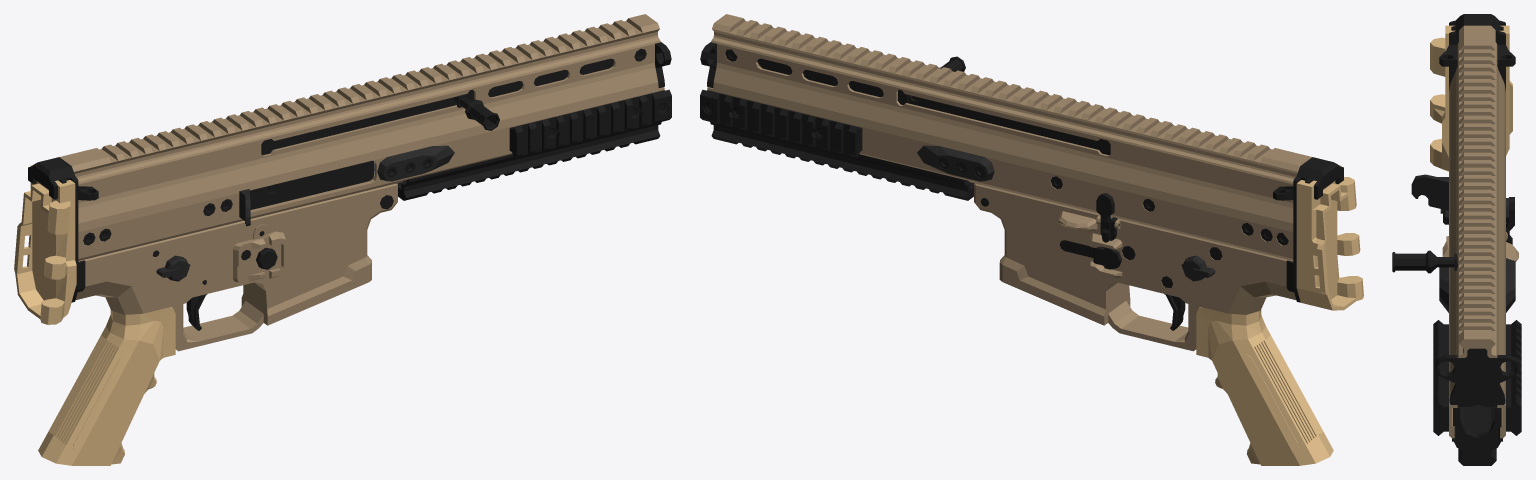
The model's file is fn_scar_l_std.glb.
3 views of the same model, side by side, from view 1: azimuth 30°, elevation 25°; view 2: azimuth 150°, elevation 25°; view 3: azimuth 270°, elevation 25° (orthographic). The views are drawn at different scales.
Visible parts, largest first — view 1: scarlstd upper receiver_10 (×4), scarlstd lower receiver_2, scarlstd pistol grip_4, scarlstd bolt carrier_1; view 2: scarlstd upper receiver_10 (×4), scarlstd lower receiver_2, scarlstd pistol grip_4, scarlstd bolt carrier_1, scarlstd mag release_12; view 3: scarlstd upper receiver_10 (×4), scarlstd bolt carrier_1, scarlstd lower receiver_2, scarlstd bolt release_14, scarlstd selector_13.
Part boxes in pixels (x1,y1,x2,y2): scarlstd upper receiver_10 (×4): (14, 14, 671, 324); scarlstd lower receiver_2: (75, 174, 397, 351); scarlstd pistol grip_4: (38, 307, 175, 465); scarlstd bolt carrier_1: (249, 58, 614, 209); scarlstd upper receiver_10 (×4): (700, 14, 1363, 310); scarlstd lower receiver_2: (974, 183, 1296, 351); scarlstd pistol grip_4: (1196, 307, 1333, 465); scarlstd bolt carrier_1: (757, 56, 1110, 154); scarlstd mag release_12: (1059, 240, 1121, 269); scarlstd upper receiver_10 (×4): (1411, 14, 1521, 465); scarlstd bolt carrier_1: (1392, 250, 1457, 273); scarlstd lower receiver_2: (1442, 223, 1518, 261); scarlstd bolt release_14: (1506, 197, 1514, 244); scarlstd selector_13: (1440, 198, 1508, 224).
Size of the model in its own units: 4.36 by 2.04 by 0.71.
